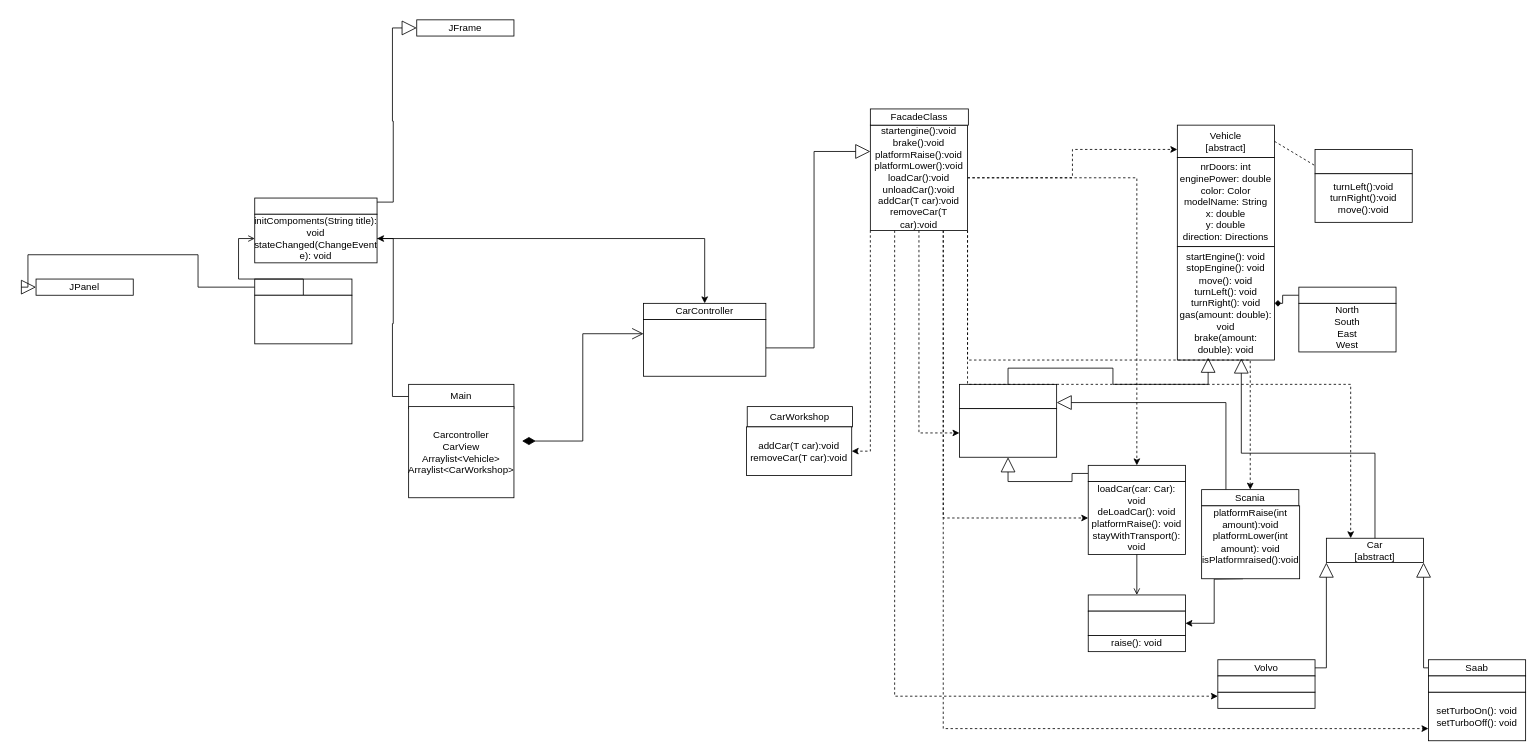
Some shapes in this 1540 by 755 pixel diagram are drawn without their labels. The shapes that lost their labels are listed below. From the top down, each one's centre as x and y in pixels, then its label:
At pixel 1363 161: "Movable {interface}".
At pixel 315 205: "CarView".
At pixel 303 286: "DrawPanel".
At pixel 1347 294: "Directions".
At pixel 303 319: "paintComponent(): void getCarImage(car: Car): Image".
At pixel 704 347: "gas(amount: double): void actionPerformed(ActionEvent e):void".
At pixel 1008 396: "Truck [abstract]".
At pixel 1008 432: "isMoving(): boolean withinRadius(): boolean".
At pixel 1136 473: "CarTransport".
At pixel 1136 602: "Platform".
At pixel 1136 622: "platformState: boolean".
At pixel 1266 699: "sppedFactor(): void".
